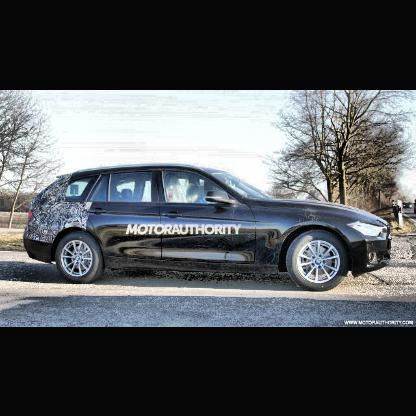BMW 3 Series Wagon 2012: (26, 163, 393, 293)
